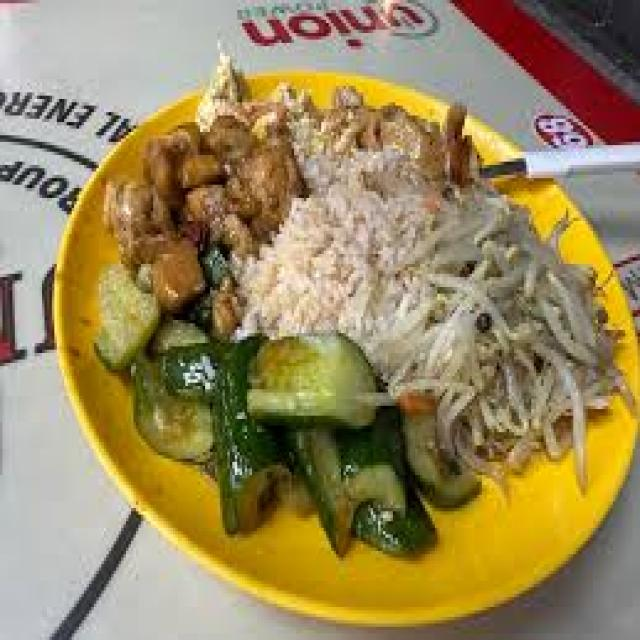Chicken: (106, 102, 304, 310)
Egg: (198, 53, 425, 175)
Green veg: (96, 264, 477, 554)
Non green veg: (339, 181, 620, 472)
Rice: (240, 152, 442, 376)
